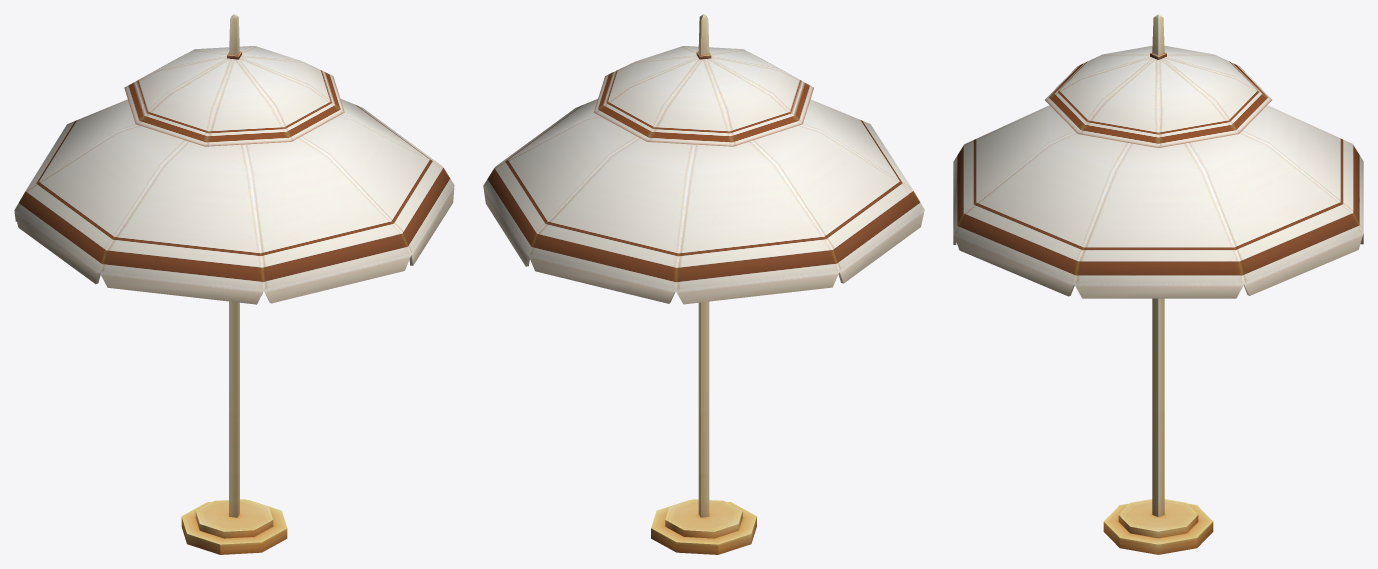
The model's file is my_ariussummer_01_parasol_01.glb.
The picture shows the model from 3 angles, left to right: view 1: azimuth 30°, elevation 25°; view 2: azimuth 150°, elevation 25°; view 3: azimuth 270°, elevation 25°; orthographic projection.
Visible parts, largest first — view 1: my_ariussummer_01_parasol_01; view 2: my_ariussummer_01_parasol_01; view 3: my_ariussummer_01_parasol_01.
Part boxes in pixels (left/top/right/bottom): my_ariussummer_01_parasol_01: left=14, top=14, right=454, bottom=554; my_ariussummer_01_parasol_01: left=483, top=14, right=924, bottom=554; my_ariussummer_01_parasol_01: left=953, top=14, right=1363, bottom=554.
Bounding box in the file's own units: 0.0116 × 0.0162 × 0.0116.
Materials: 1 (1 with a texture image).
